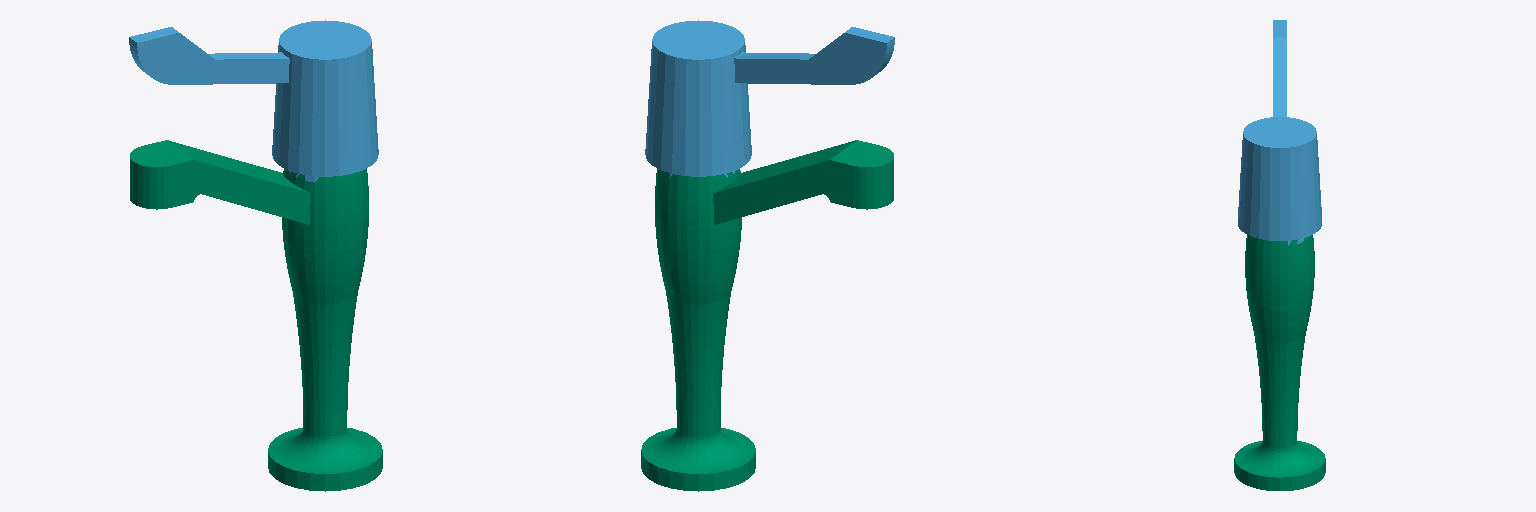
URDF robot description (partnet_d3c3cf0cb64bb51a208dc8b344513a31):
<?xml version="1.0" ?>
<robot name="partnet_d3c3cf0cb64bb51a208dc8b344513a31">
	<link name="base"/>
	<link name="link_0">
		<visual name="switch-2">
			<origin xyz="0.000505679999685326 0 0.11965534633700722"/>
			<geometry>
				<mesh filename="textured_objs/new-2.obj"/>
			</geometry>
		</visual>
		<visual name="switch-2">
			<origin xyz="0.000505679999685326 0 0.11965534633700722"/>
			<geometry>
				<mesh filename="textured_objs/original-4.obj"/>
			</geometry>
		</visual>
		<collision>
			<origin xyz="0.000505679999685326 0 0.11965534633700722"/>
			<geometry>
				<mesh filename="textured_objs/new-2.obj"/>
			</geometry>
		</collision>
		<collision>
			<origin xyz="0.000505679999685326 0 0.11965534633700722"/>
			<geometry>
				<mesh filename="textured_objs/original-4.obj"/>
			</geometry>
		</collision>
	</link>
	<joint name="joint_0" type="revolute">
		<origin xyz="-0.000505679999685326 0 -0.11965534633700722"/>
		<axis xyz="0 -1 0"/>
		<child link="link_0"/>
		<parent link="link_1"/>
		<limit lower="-1.5707963267948966" upper="1.5707963267948966"/>
	</joint>
	<link name="link_1">
		<visual name="surface_base-7">
			<origin xyz="0 0 0"/>
			<geometry>
				<mesh filename="textured_objs/new-5.obj"/>
			</geometry>
		</visual>
		<visual name="surface_base-7">
			<origin xyz="0 0 0"/>
			<geometry>
				<mesh filename="textured_objs/new-4.obj"/>
			</geometry>
		</visual>
		<visual name="vertical_support-8">
			<origin xyz="0 0 0"/>
			<geometry>
				<mesh filename="textured_objs/new-3.obj"/>
			</geometry>
		</visual>
		<visual name="tube-5">
			<origin xyz="0 0 0"/>
			<geometry>
				<mesh filename="textured_objs/new-6.obj"/>
			</geometry>
		</visual>
		<visual name="head-6">
			<origin xyz="0 0 0"/>
			<geometry>
				<mesh filename="textured_objs/new-0.obj"/>
			</geometry>
		</visual>
		<collision>
			<origin xyz="0 0 0"/>
			<geometry>
				<mesh filename="textured_objs/new-5.obj"/>
			</geometry>
		</collision>
		<collision>
			<origin xyz="0 0 0"/>
			<geometry>
				<mesh filename="textured_objs/new-4.obj"/>
			</geometry>
		</collision>
		<collision>
			<origin xyz="0 0 0"/>
			<geometry>
				<mesh filename="textured_objs/new-3.obj"/>
			</geometry>
		</collision>
		<collision>
			<origin xyz="0 0 0"/>
			<geometry>
				<mesh filename="textured_objs/new-6.obj"/>
			</geometry>
		</collision>
		<collision>
			<origin xyz="0 0 0"/>
			<geometry>
				<mesh filename="textured_objs/new-0.obj"/>
			</geometry>
		</collision>
	</link>
	<joint name="joint_1" type="fixed">
		<origin rpy="1.570796326794897 0 -1.570796326794897" xyz="0 0 0"/>
		<child link="link_1"/>
		<parent link="base"/>
	</joint>
</robot>

--- Facts derived from the render (not from the file) ---
3 views of the same robot in one strip: view 1: azimuth 30°, elevation 25°; view 2: azimuth 150°, elevation 25°; view 3: azimuth 270°, elevation 25° (orthographic).
Robot: partnet_d3c3cf0cb64bb51a208dc8b344513a31 — 3 links, 2 joints (1 revolute, 1 fixed); root link base; default pose: all joints at 0.
Visible links, largest first — view 1: link_1, link_0; view 2: link_1, link_0; view 3: link_1, link_0.
Boxes of the visible links, x1,y1,x2,y2 form: link_1: [130, 140, 382, 491]; link_0: [129, 20, 378, 182]; link_1: [641, 140, 893, 491]; link_0: [645, 20, 894, 177]; link_1: [1234, 235, 1325, 490]; link_0: [1238, 20, 1321, 245].
Bounding box of the posed robot: 0.8974 × 0.3695 × 1.68 m (x, y, z).
Meshes: 7 distinct files referenced, 7 mesh visuals loaded (7 OBJ).
